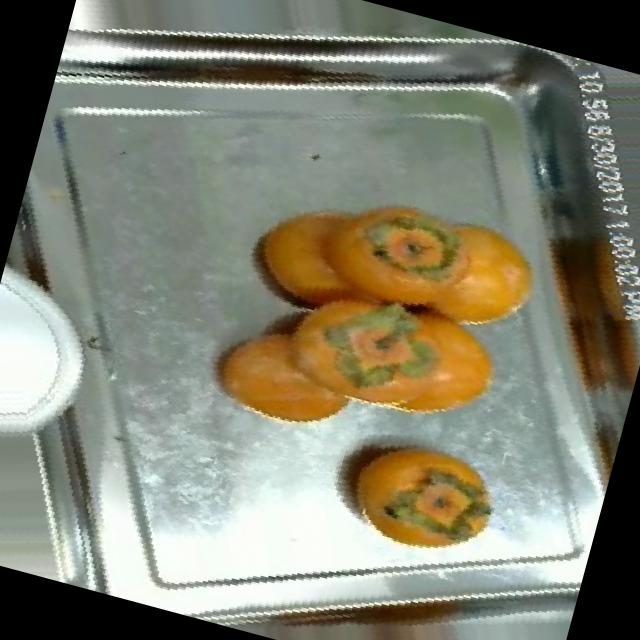Fruit: (288, 398, 528, 588), (178, 275, 389, 457)
